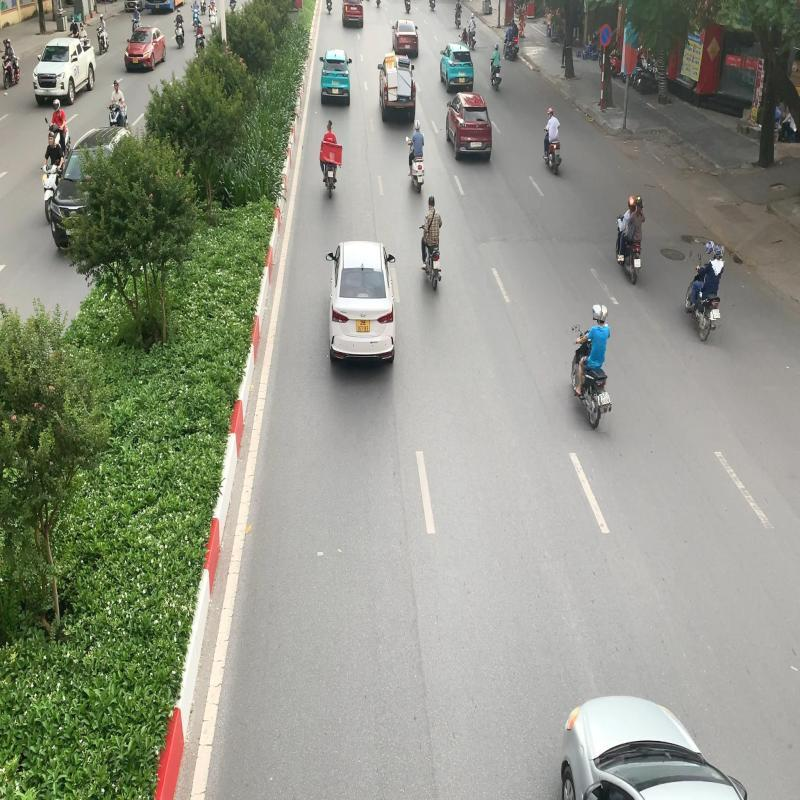helmet: (590, 304, 604, 320), (704, 242, 716, 254)
licenseplate: (598, 390, 612, 406), (712, 307, 722, 319)
motorcyclist: (568, 303, 616, 431), (678, 243, 731, 346)
nohelmet: (326, 118, 334, 131)
